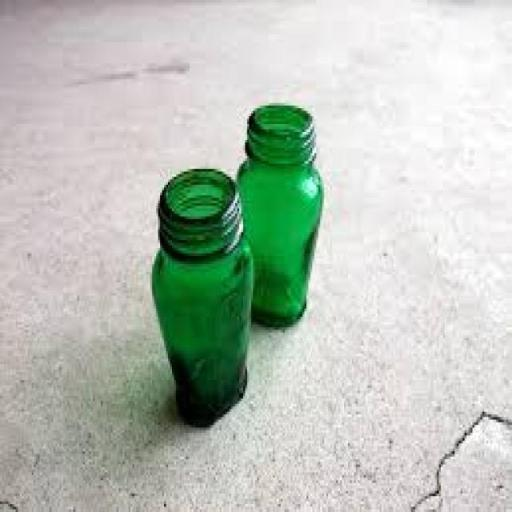glass: (152, 170, 255, 429), (237, 104, 323, 328)
